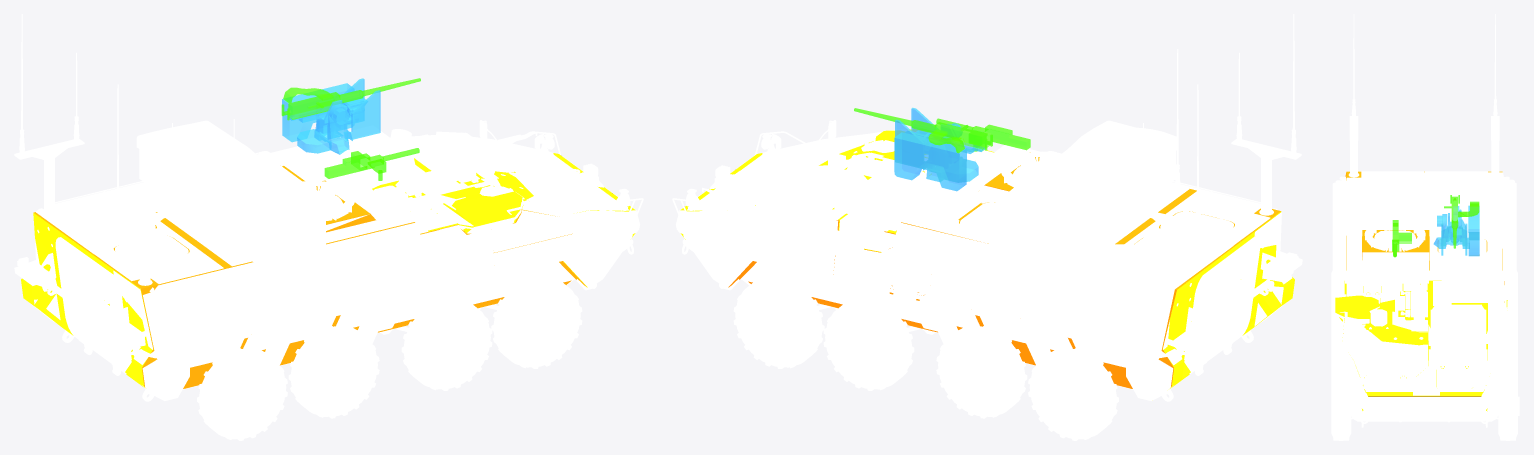
The model's file is LAVIII.gltf.
3 views of the same model, side by side, from view 1: azimuth 30°, elevation 25°; view 2: azimuth 150°, elevation 25°; view 3: azimuth 270°, elevation 25° (orthographic). The views are drawn at different scales.
Visible parts, largest first — view 1: 26, 26_1, 26_2, stryker_col_arm_1, crows_turret_col2_89, stryker_col_arm_2, crows_m2_col_1, stryker_col_arm, crows_m2_col, M240_Loaders_Turret_Weapon_Col_80; view 2: 26, 26_1, 26_2, crows_turret_col2_89, stryker_col_arm_1, stryker_col_arm_2, crows_m2_col_1, M240_Loaders_Turret_Weapon_Col_80, stryker_col_arm, crows_m2_col; view 3: 26, 26_2, 26_1, stryker_col_arm, crows_turret_col2_89, stryker_col_arm_1, stryker_col_arm_2, crows_m2_col_1, crows_m2_col, M240_Loaders_Turret_Weapon_Col_80, 26_3.
Part boxes in pixels (left/top/right/bottom): 26: left=14, top=14, right=643, bottom=401; 26_1: left=197, top=274, right=582, bottom=440; 26_2: left=14, top=120, right=328, bottom=284; stryker_col_arm_1: left=21, top=191, right=522, bottom=387; crows_turret_col2_89: left=282, top=78, right=380, bottom=154; stryker_col_arm_2: left=33, top=166, right=586, bottom=388; crows_m2_col_1: left=281, top=78, right=420, bottom=120; stryker_col_arm: left=372, top=153, right=635, bottom=287; crows_m2_col: left=288, top=97, right=367, bottom=133; M240_Loaders_Turret_Weapon_Col_80: left=324, top=148, right=419, bottom=180; 26: left=672, top=14, right=1302, bottom=401; 26_1: left=733, top=274, right=1118, bottom=440; 26_2: left=987, top=120, right=1301, bottom=284; crows_turret_col2_89: left=894, top=107, right=978, bottom=191; stryker_col_arm_1: left=875, top=129, right=1294, bottom=388; stryker_col_arm_2: left=728, top=152, right=1280, bottom=388; crows_m2_col_1: left=854, top=108, right=992, bottom=153; M240_Loaders_Turret_Weapon_Col_80: left=936, top=118, right=1030, bottom=151; stryker_col_arm: left=680, top=141, right=994, bottom=252; crows_m2_col: left=905, top=123, right=984, bottom=163; 26: left=1332, top=14, right=1517, bottom=427; 26_2: left=1334, top=116, right=1515, bottom=235; 26_1: left=1331, top=270, right=1519, bottom=440; stryker_col_arm: left=1342, top=270, right=1507, bottom=411; crows_turret_col2_89: left=1433, top=205, right=1479, bottom=256; stryker_col_arm_1: left=1335, top=295, right=1379, bottom=322; stryker_col_arm_2: left=1345, top=171, right=1504, bottom=301; crows_m2_col_1: left=1444, top=195, right=1479, bottom=248; crows_m2_col: left=1437, top=206, right=1462, bottom=243; M240_Loaders_Turret_Weapon_Col_80: left=1392, top=220, right=1411, bottom=257; 26_3: left=1445, top=240, right=1462, bottom=257.
Bounding box in the file's own units: 7.08 × 4.74 × 2.93.
